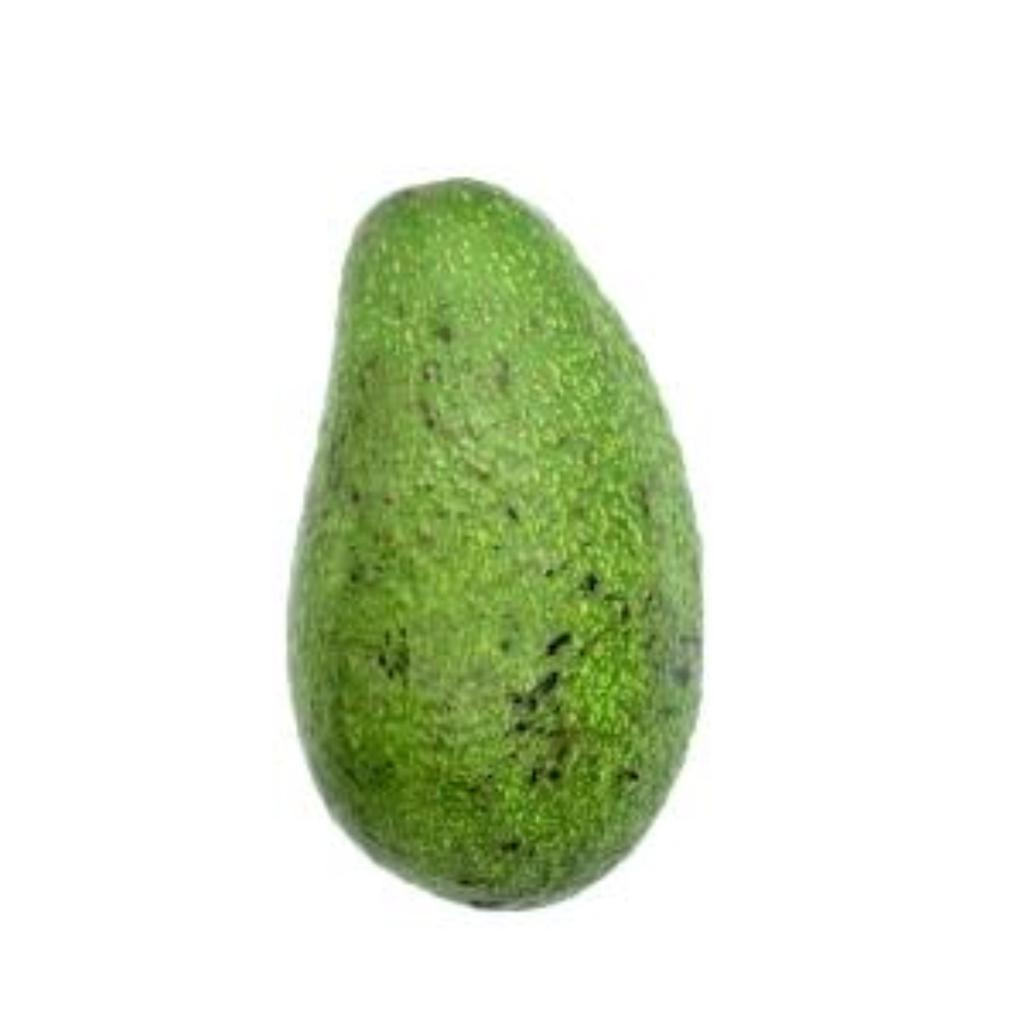cercospora: (232, 147, 754, 929)
